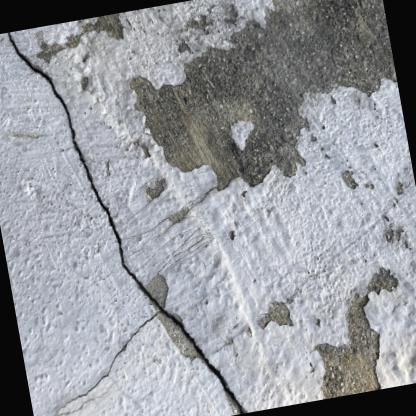crack: (3, 31, 249, 416)
